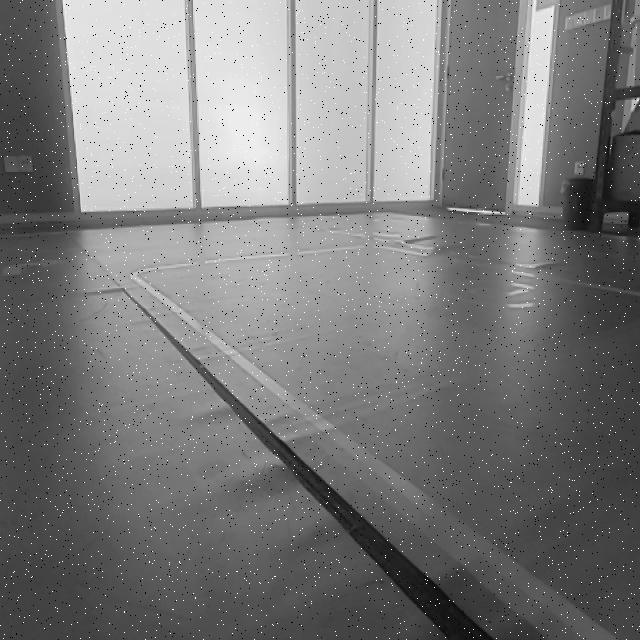right_lane: (137, 277, 614, 640)
